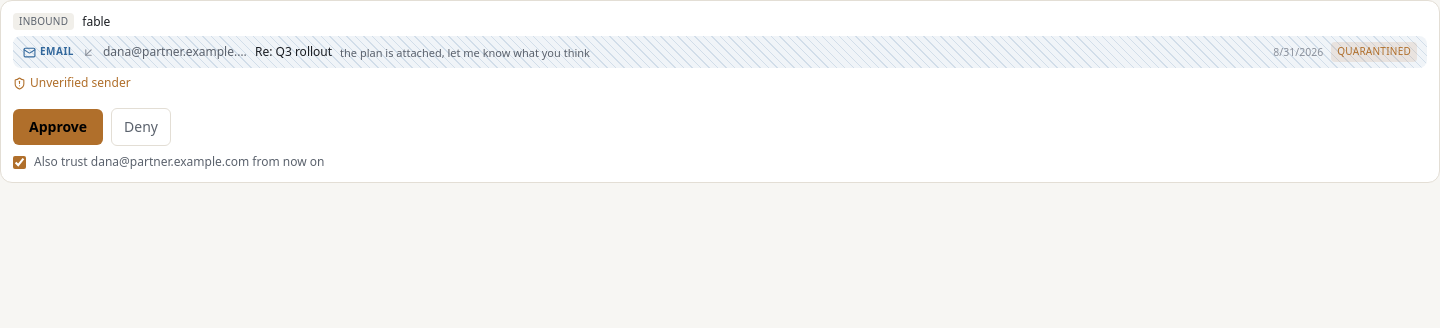
Test: EmailApprovalRow — the affordances › deny opens a confirm carrying an UNCHECKED block box and final-resolution copy
What coordinates should you click on to do the following:
click the button "Deny"
I would click on:
 (141, 126)
Its box is [111,108,171,146].
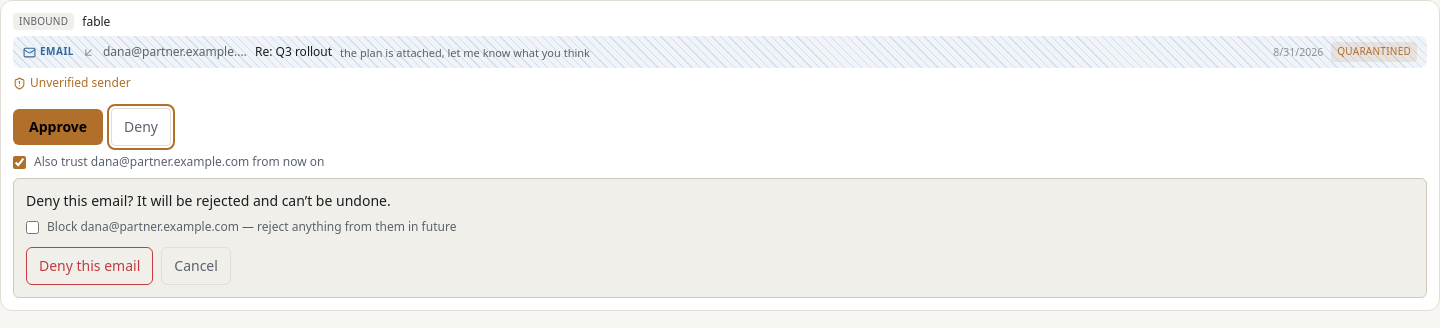
Expected: the checkbox labelled "Block dana@partner.example.com" is not checked, [26,220,39,234]
Expected: the text "Deny this email? It will be rejected and can’t be undone." is shown, [26,190,391,210]
